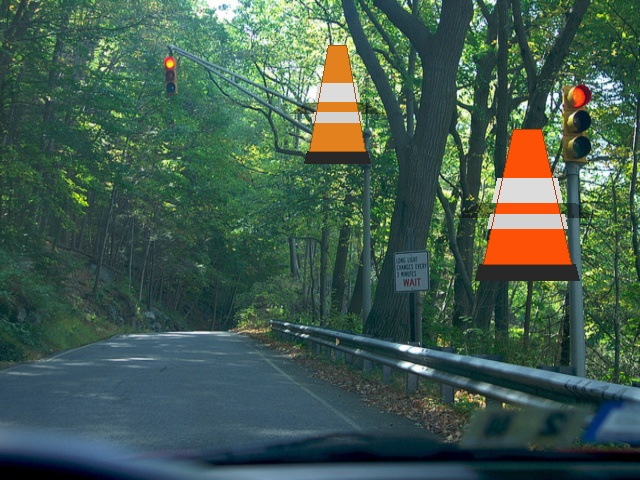traffic-cone: (475, 129, 579, 280), (304, 45, 370, 163)
